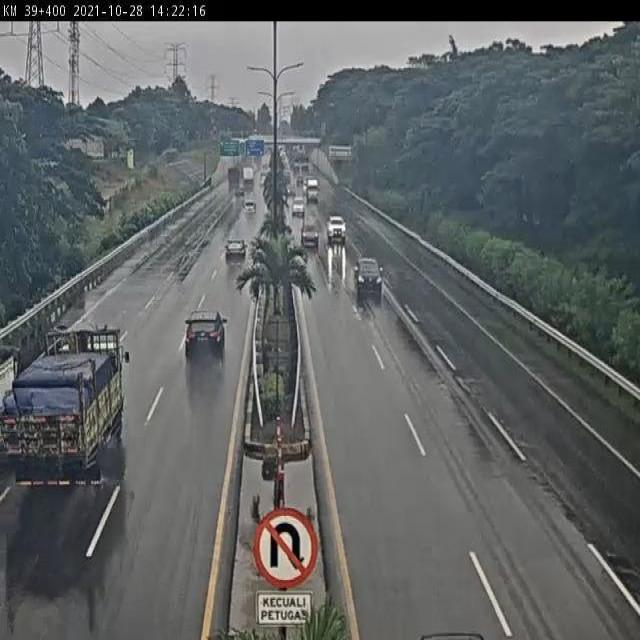car: (183, 311, 228, 357), (353, 255, 386, 297)
truck-l-: (8, 323, 131, 488)
